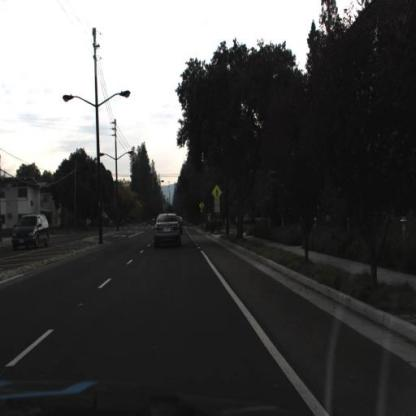car: (14, 214, 52, 251), (152, 210, 186, 251)
